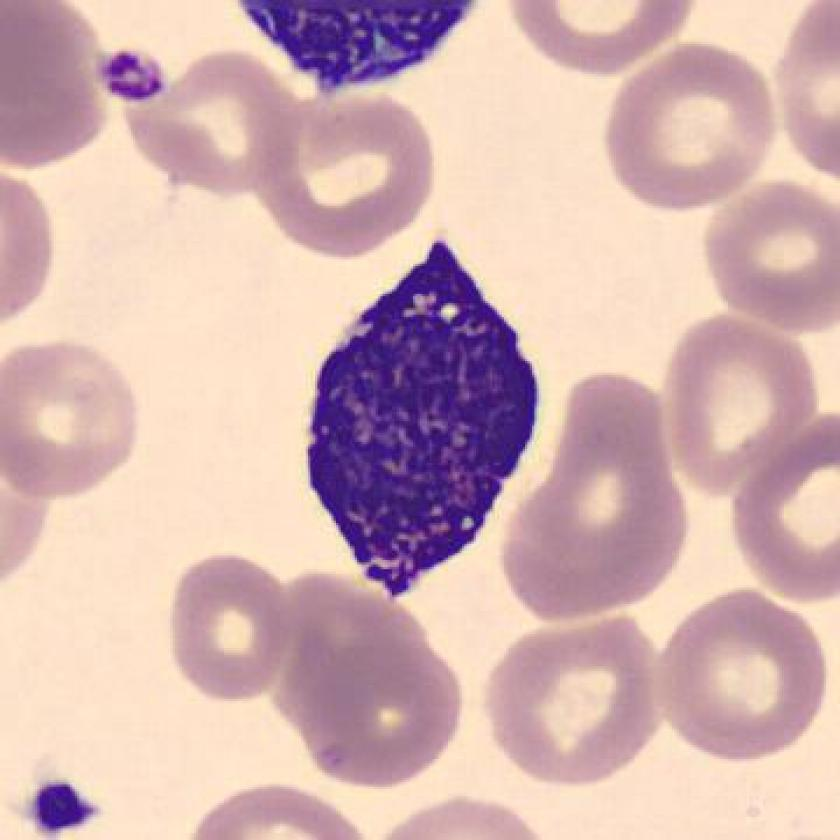basophil: (293, 232, 547, 598)
